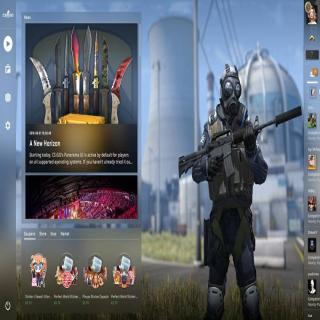CT-Body: (192, 63, 264, 319)
CT-Head: (219, 60, 241, 116)
